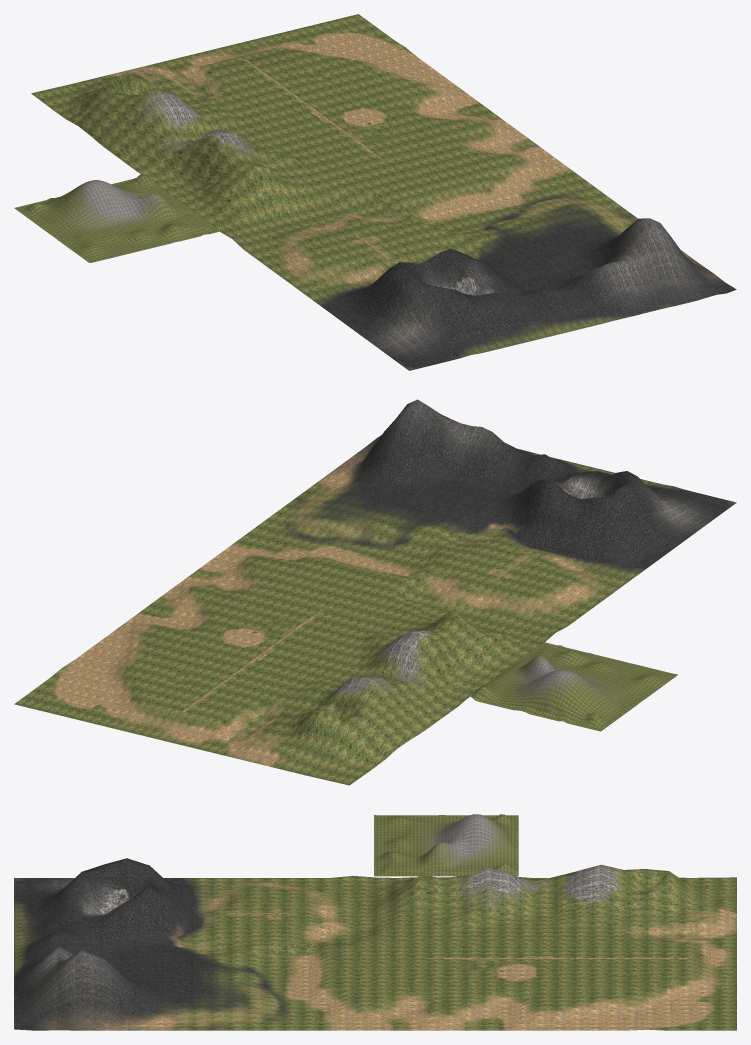
3 views of the same model, one above another, from view 1: azimuth 30°, elevation 25°; view 2: azimuth 150°, elevation 25°; view 3: azimuth 270°, elevation 25° (orthographic). The views are drawn at different scales.
Visible parts, largest first — view 1: Big_Mesh, group1; view 2: Big_Mesh, group1; view 3: Big_Mesh, group1.
Part boxes in pixels (x1,y1,x2,y2): Big_Mesh: (31,14,736,370); group1: (14,174,220,262); Big_Mesh: (14,399,736,785); group1: (467,642,677,731); Big_Mesh: (14,858,736,1030); group1: (374,814,518,876).
Bounding box in the file's own units: 3501 × 431 × 5000.
Materials: 2 (2 with a texture image).
